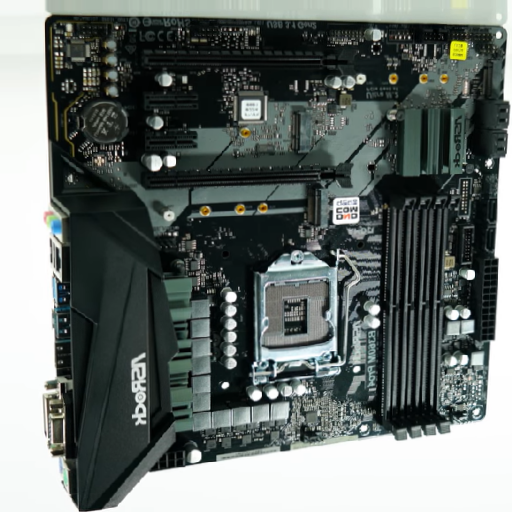CPU: (251, 247, 341, 383)
GPU: (140, 46, 359, 77), (141, 162, 354, 190)
MOTHERBOARD: (47, 20, 508, 486)
RAM: (377, 192, 462, 441)
SSD: (294, 112, 312, 154), (307, 186, 322, 228)
